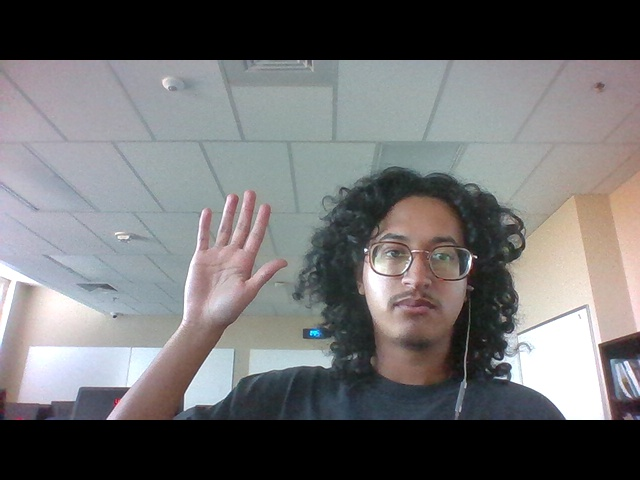hello: (170, 185, 292, 325)
